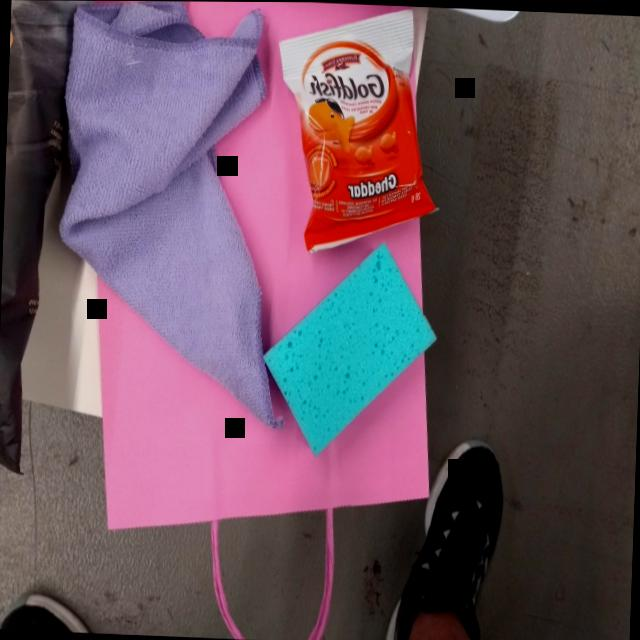cloth_opl: (46, 0, 303, 438)
crackers: (268, 2, 449, 266)
sponge_opl: (258, 239, 447, 469)
